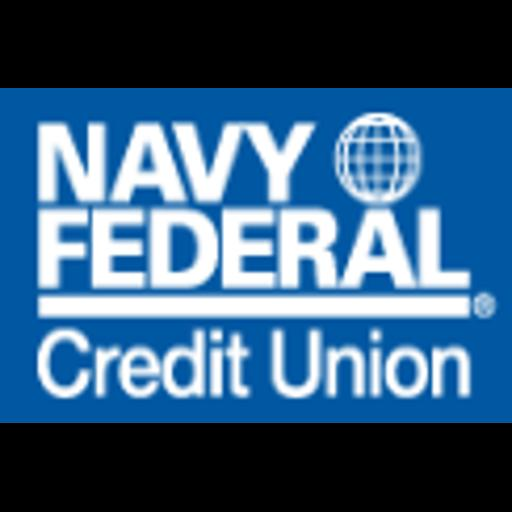Navy Federal Credit Union: (0, 88, 512, 423)
